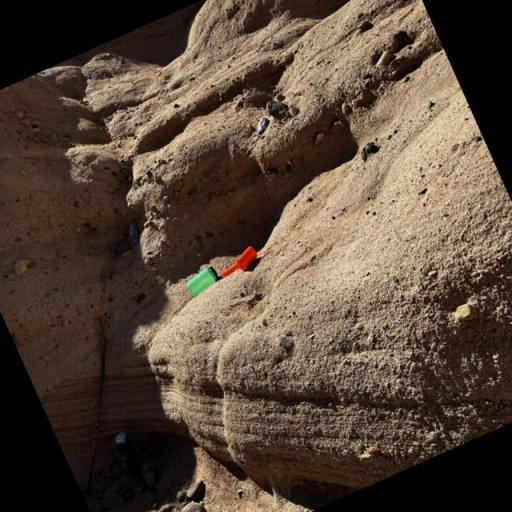bottle: (112, 430, 146, 476), (184, 264, 222, 298)
mallet: (217, 245, 261, 279)
